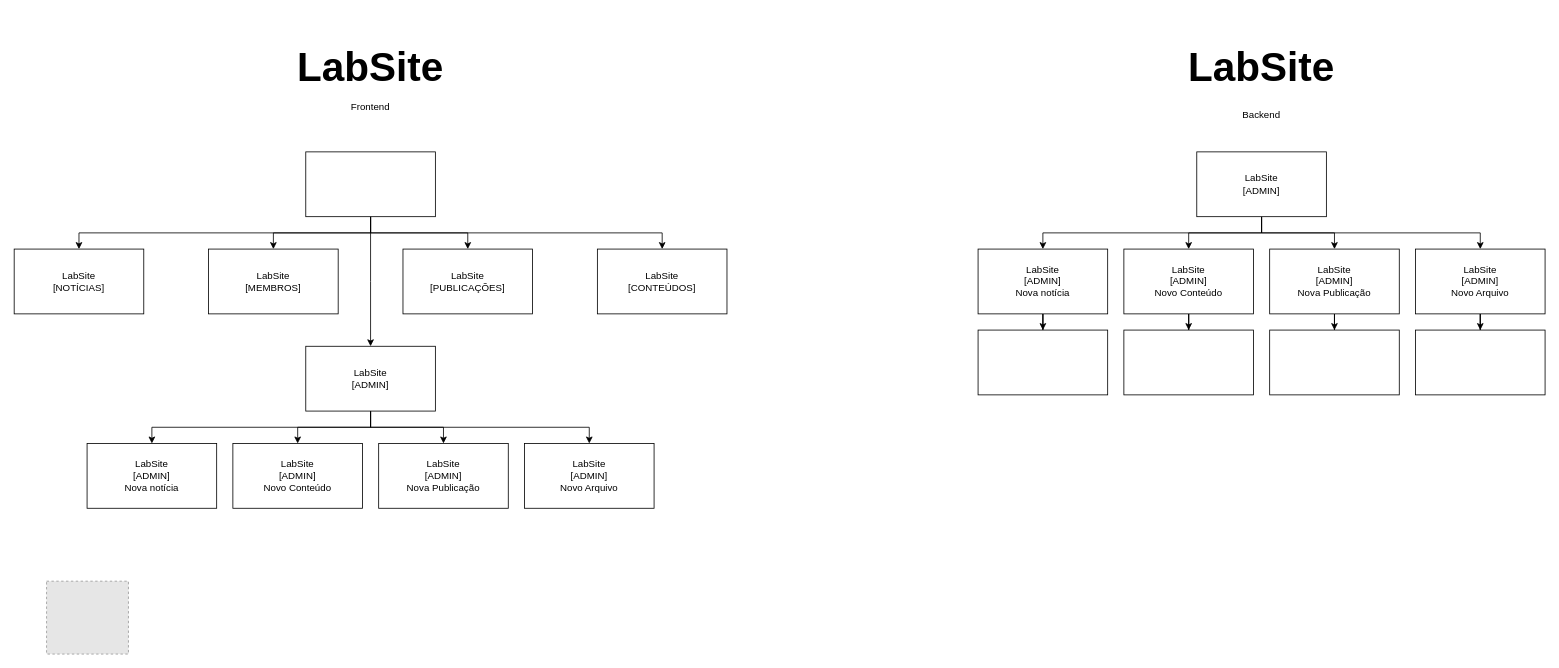
Some shapes in this 1559 by 668 pixel diagram are drawn without their labels. Grey dashed boxes stand in for pictures. Each missing label, with the box of its shape:
LabSite [ADMIN/ARCHIVE ] Novo Arquivo: (1415, 329, 1545, 395)
LabSite [ADMIN/CONTENT ] Novo Conteúdo: (1123, 329, 1253, 395)
LabSite [ADMIN/NOTICIA ] Nova notícia: (977, 329, 1108, 395)
LabSite [ADMIN/PUBLISH ] Nova Publicação: (1269, 329, 1399, 395)
LabSite [HOME]: (305, 151, 435, 217)
